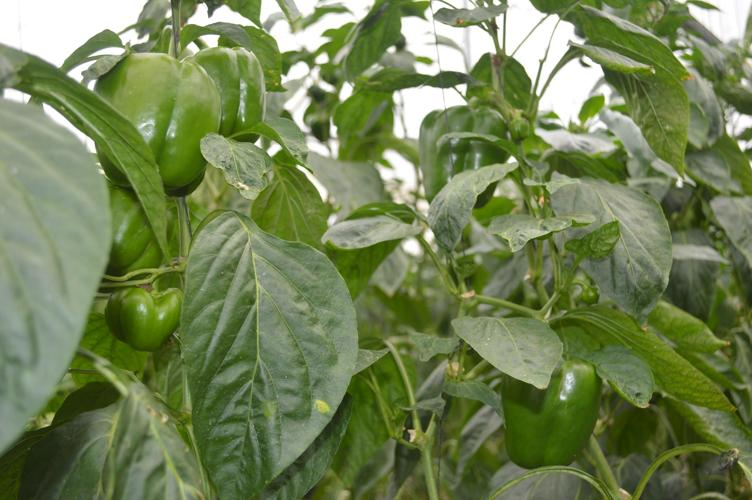BellPepper: (79, 43, 212, 194), (482, 357, 608, 481), (408, 98, 513, 214), (186, 45, 282, 153), (90, 188, 178, 274), (107, 283, 200, 357)
